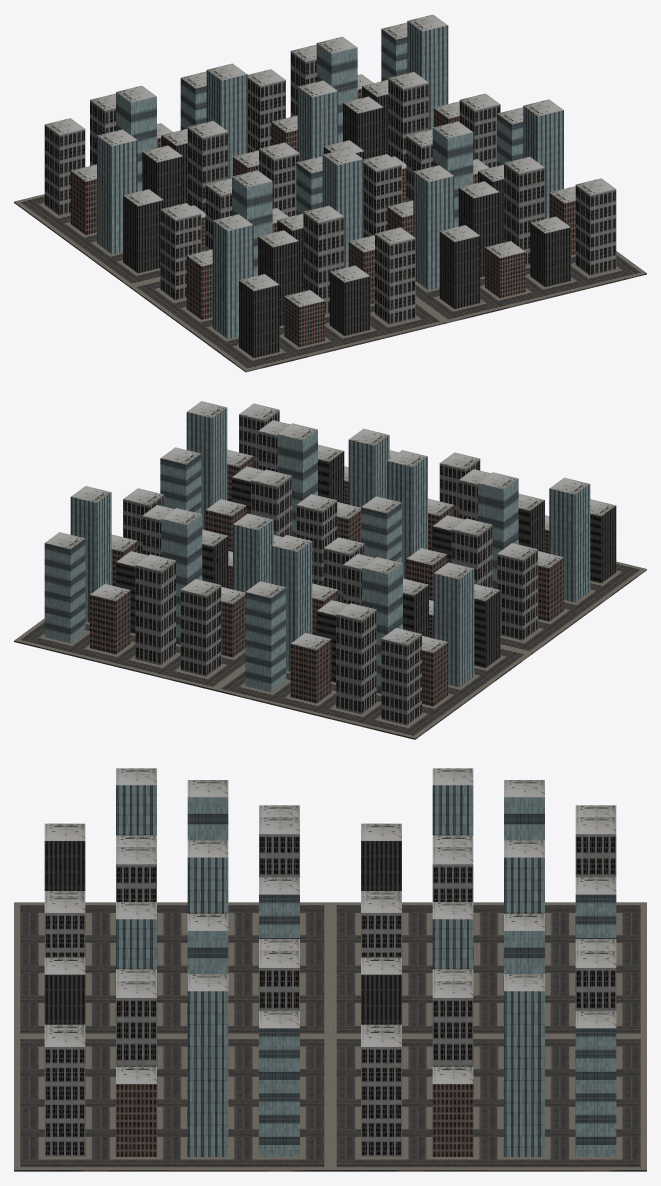
File: ciudad_normal.obj
The picture shows the model from 3 angles, top to bottom: view 1: azimuth 30°, elevation 25°; view 2: azimuth 150°, elevation 25°; view 3: azimuth 270°, elevation 25°; orthographic projection. The views are drawn at different scales.
Visible parts, largest first — view 1: calles.002_Cube.002, calles.003_Cube.003, Cubo.068, Cubo.100, Cubo.036, Cubo.099, Cubo.067, Cubo.070, calles.001_Cube.001, Cubo.102, Cubo.096, Cubo.075 (+39 smaller); view 2: calles.001_Cube.001, calles_Cube, Cubo.015, Cubo.036, Cubo.068, Cubo.047, Cubo.013, Cubo.045, Cubo.012, Cubo.044, Cubo.076, Cubo.011 (+41 smaller); view 3: calles_Cube, calles.003_Cube.003, calles.001_Cube.001, calles.002_Cube.002, Cubo.107, Cubo.011, Cubo.015, Cubo.111, Cubo.099, Cubo.003, Cubo.007, Cubo.103 (+60 smaller).
Part boxes in pixels (x1,y1,x2,y2): calles.002_Cube.002: [130, 279, 446, 372]; calles.003_Cube.003: [415, 251, 646, 323]; Cubo.068: [212, 220, 253, 338]; Cubo.100: [413, 171, 454, 289]; Cubo.036: [97, 136, 137, 253]; Cubo.099: [575, 185, 616, 275]; Cubo.067: [375, 234, 415, 324]; Cubo.070: [303, 212, 344, 315]; calles.001_Cube.001: [14, 194, 160, 287]; Cubo.102: [504, 163, 544, 266]; Cubo.096: [439, 231, 480, 309]; Cubo.075: [322, 155, 363, 267]; calles.001_Cube.001: [214, 646, 530, 739]; calles_Cube: [14, 618, 245, 690]; Cubo.015: [44, 539, 85, 643]; Cubo.036: [433, 569, 474, 687]; Cubo.068: [549, 484, 590, 602]; Cubo.047: [245, 587, 285, 692]; Cubo.013: [135, 561, 175, 665]; Cubo.045: [336, 610, 376, 714]; Cubo.012: [180, 585, 221, 676]; Cubo.044: [381, 634, 421, 725]; Cubo.076: [497, 549, 537, 640]; Cubo.011: [70, 492, 111, 622]; calles_Cube: [330, 1036, 646, 1171]; calles.003_Cube.003: [14, 1036, 330, 1171]; calles.001_Cube.001: [330, 902, 646, 1035]; calles.002_Cube.002: [14, 902, 330, 1035]; Cubo.107: [187, 991, 228, 1156]; Cubo.011: [504, 991, 544, 1156]; Cubo.015: [575, 1028, 616, 1156]; Cubo.111: [259, 1028, 299, 1156]; Cubo.099: [44, 1047, 85, 1156]; Cubo.003: [361, 1047, 401, 1156]; Cubo.007: [432, 1084, 473, 1156]; Cubo.103: [116, 1084, 156, 1156].
Size of the model in its own units: 279 by 81.54 by 279.
Materials: 6 (6 with a texture image).
